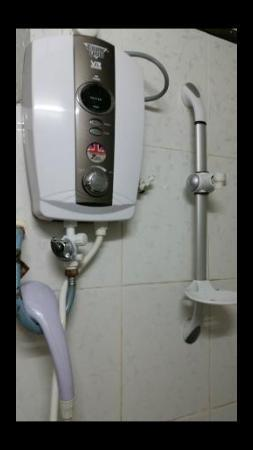Ducha: (16, 29, 236, 421)
